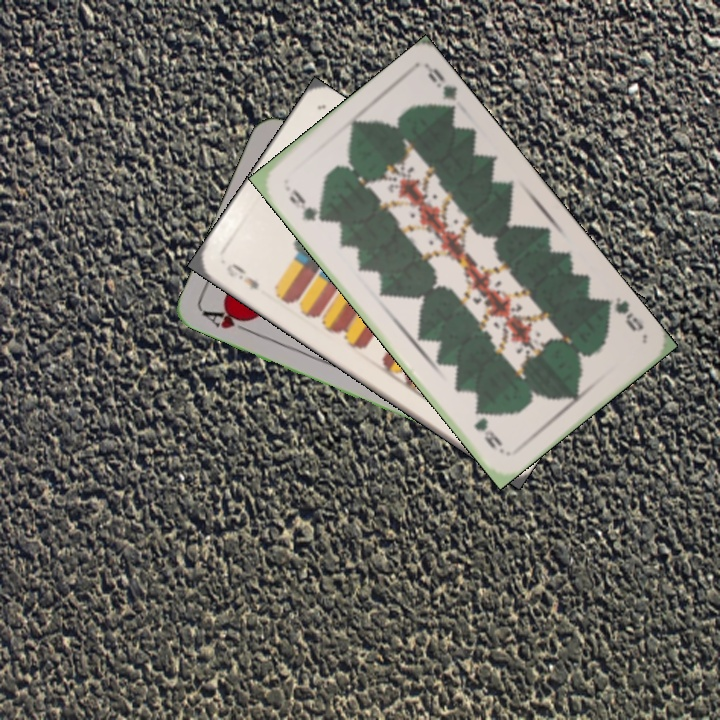E9: (222, 258, 262, 292)
G9: (285, 184, 326, 225), (611, 293, 647, 335)
HA: (199, 305, 256, 337)
